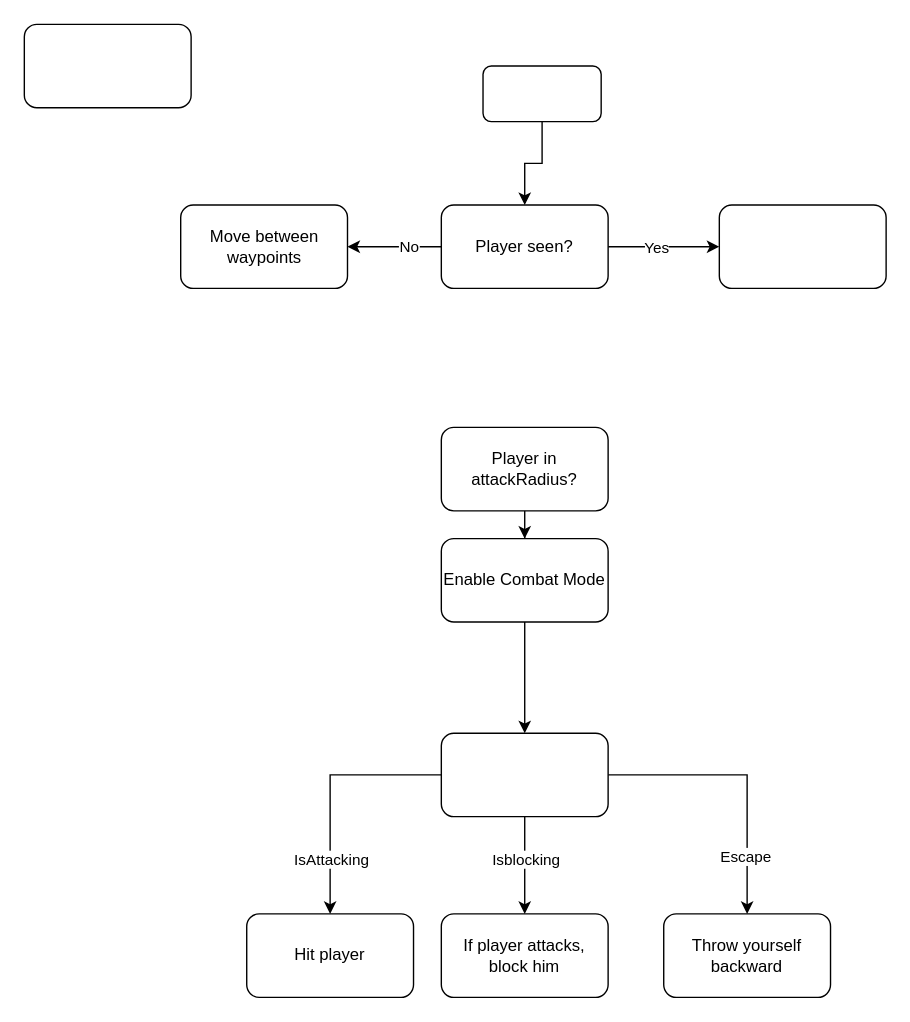
Image size: 910x1022. Some labels were removed from this diagram. The shapes that lost their labels are listed below. From the top down, each one's centre as x and y in pixels, then its label:
(541,93): Entry
(802,246): Move to player
(524,774): Every Rhythm tick
